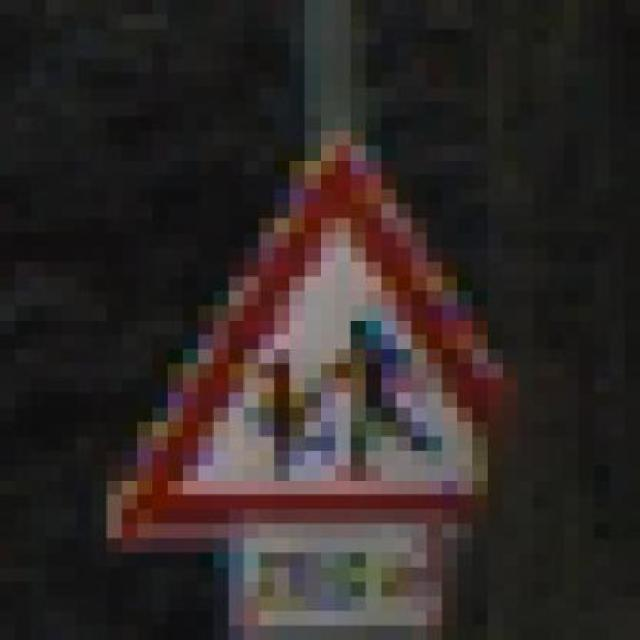Beware of children: (76, 102, 549, 552)
